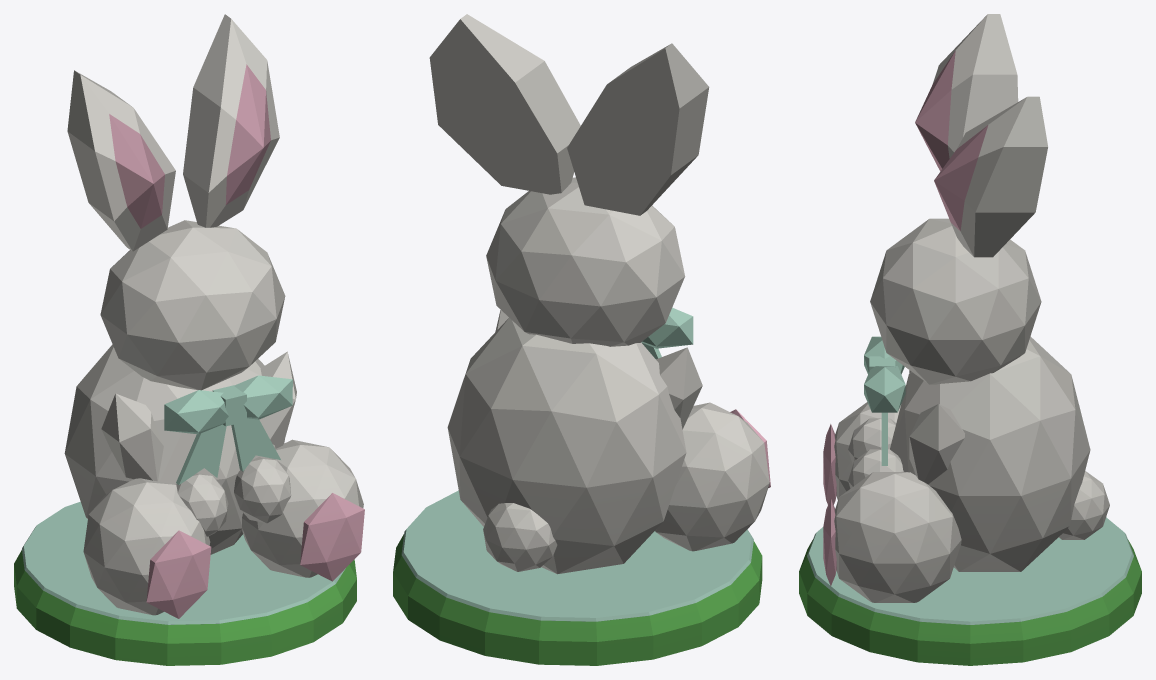
File: bunny-statue.glb
The picture shows the model from 3 angles, left to right: view 1: azimuth 30°, elevation 25°; view 2: azimuth 150°, elevation 25°; view 3: azimuth 270°, elevation 25°; orthographic projection. The views are drawn at different scales.
Visible parts, largest first — view 1: root_mesh, ears1_mesh, ears0_mesh; view 2: root_mesh, ears1_mesh, ears0_mesh; view 3: root_mesh, ears1_mesh, ears0_mesh.
Boxes of the visible parts, box(x1,y1,x2,y2) form: root_mesh: box(14, 220, 364, 665); ears1_mesh: box(183, 14, 279, 227); ears0_mesh: box(67, 70, 175, 251); root_mesh: box(393, 177, 770, 665); ears1_mesh: box(429, 14, 580, 194); ears0_mesh: box(567, 43, 709, 215); root_mesh: box(799, 218, 1141, 665); ears1_mesh: box(934, 96, 1047, 257); ears0_mesh: box(915, 14, 1018, 171).
Bounding box in the file's own units: 1.4 × 2.4 × 1.4.
